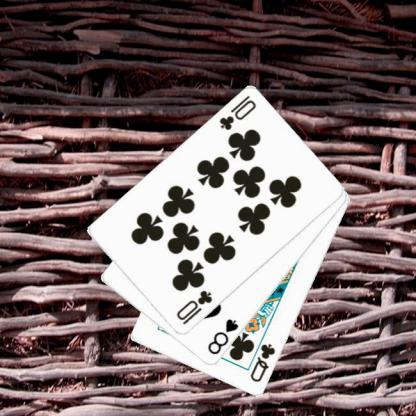10C: (216, 93, 258, 132), (173, 288, 214, 326)
8S: (205, 316, 240, 357)
QC: (247, 340, 277, 384)
